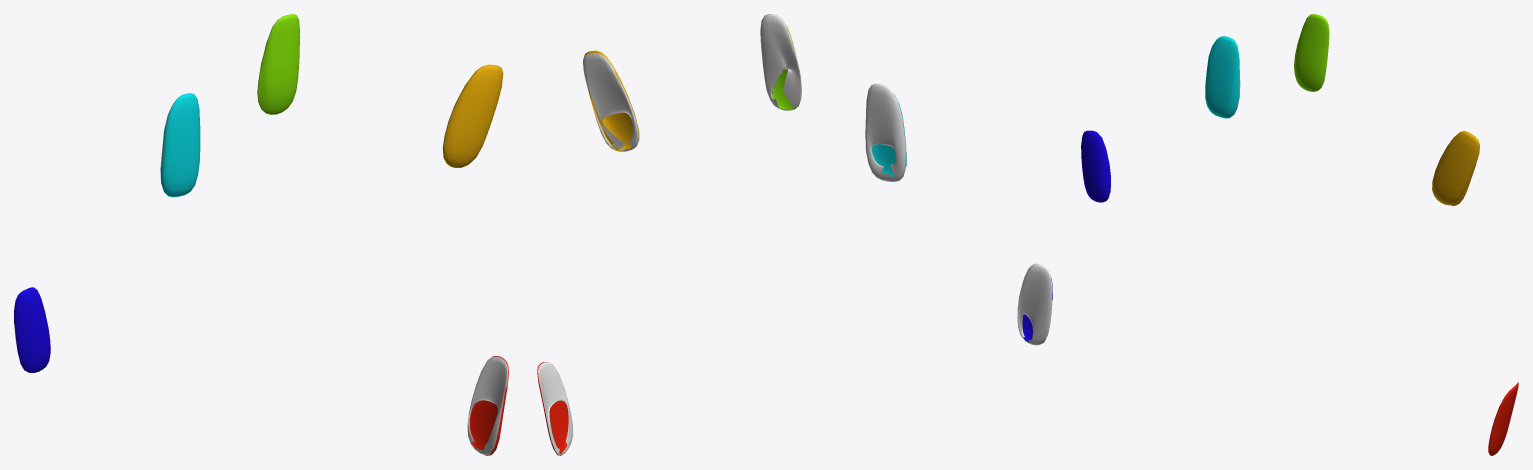
File: 未命名_指甲.fbx
3 renders of one model, left to right at view 1: azimuth 30°, elevation 25°; view 2: azimuth 150°, elevation 25°; view 3: azimuth 330°, elevation 25°, orthographic. The views are drawn at different scales.
Parts seen in each view (by area): view 1: Cube.002, Cube.004, Cube.003, Cube.006, Cube.005; view 2: Cube.002, Cube.004, Cube.003, Cube.005, Cube.006; view 3: Cube.004, Cube.002, Cube.003, Cube.005, Cube.006.
Part boxes in pixels (box(x1,y1,x2,y2)): Cube.002: box(442, 64, 503, 167); Cube.004: box(160, 93, 200, 197); Cube.003: box(257, 14, 300, 114); Cube.006: box(467, 356, 508, 455); Cube.005: box(14, 287, 50, 372); Cube.002: box(583, 50, 639, 151); Cube.004: box(865, 83, 906, 181); Cube.003: box(760, 14, 801, 110); Cube.005: box(1017, 263, 1052, 345); Cube.006: box(537, 362, 573, 455); Cube.004: box(1205, 36, 1240, 118); Cube.002: box(1432, 131, 1479, 205); Cube.003: box(1294, 14, 1329, 91); Cube.005: box(1081, 130, 1110, 202); Cube.006: box(1488, 382, 1518, 455).
Bounding box in the file's own units: 343 × 319 × 45.22.
